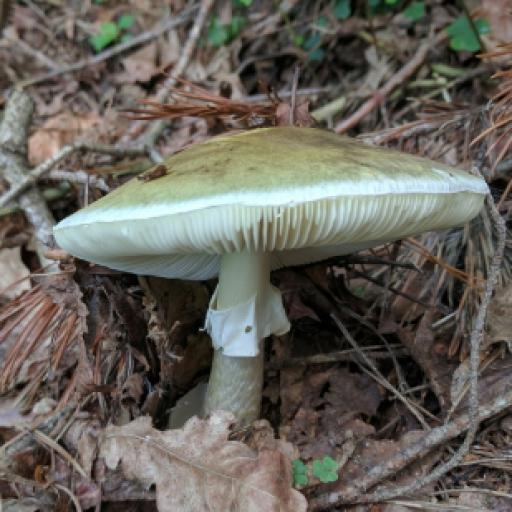mushroom: (42, 0, 498, 443)
